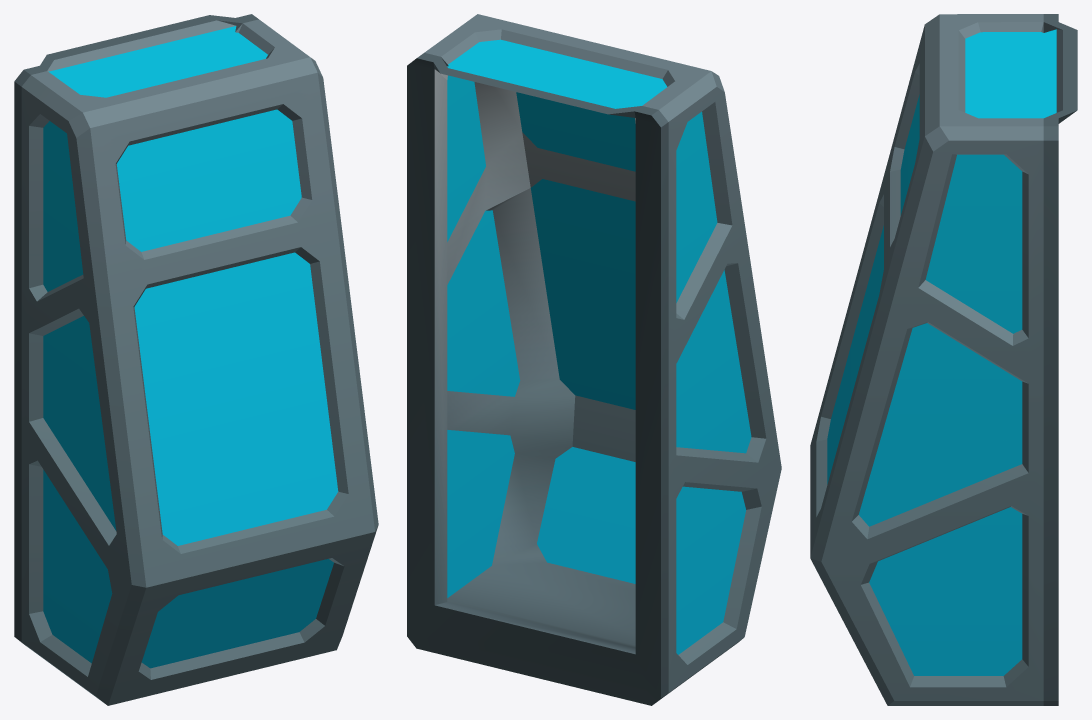
Rendered from Capsule_003_door_001.fbx.
3 views of the same model, side by side, from view 1: azimuth 30°, elevation 25°; view 2: azimuth 150°, elevation 25°; view 3: azimuth 270°, elevation 25° (orthographic). The views are drawn at different scales.
Visible parts, largest first — view 1: Сapsule_003_door_001; view 2: Сapsule_003_door_001; view 3: Сapsule_003_door_001.
Boxes of the visible parts, left/top/right/bottom form: Сapsule_003_door_001: left=14, top=14, right=378, bottom=705; Сapsule_003_door_001: left=407, top=14, right=781, bottom=705; Сapsule_003_door_001: left=810, top=14, right=1077, bottom=705.
Size of the model in its own units: 89.99 by 83.67 by 200.
